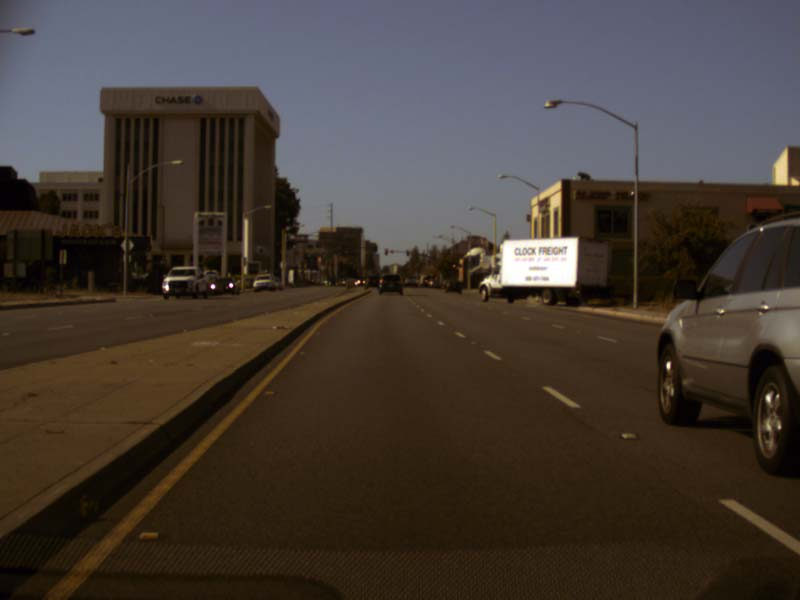Red: (452, 263, 456, 271), (406, 249, 410, 256), (384, 248, 387, 255)
